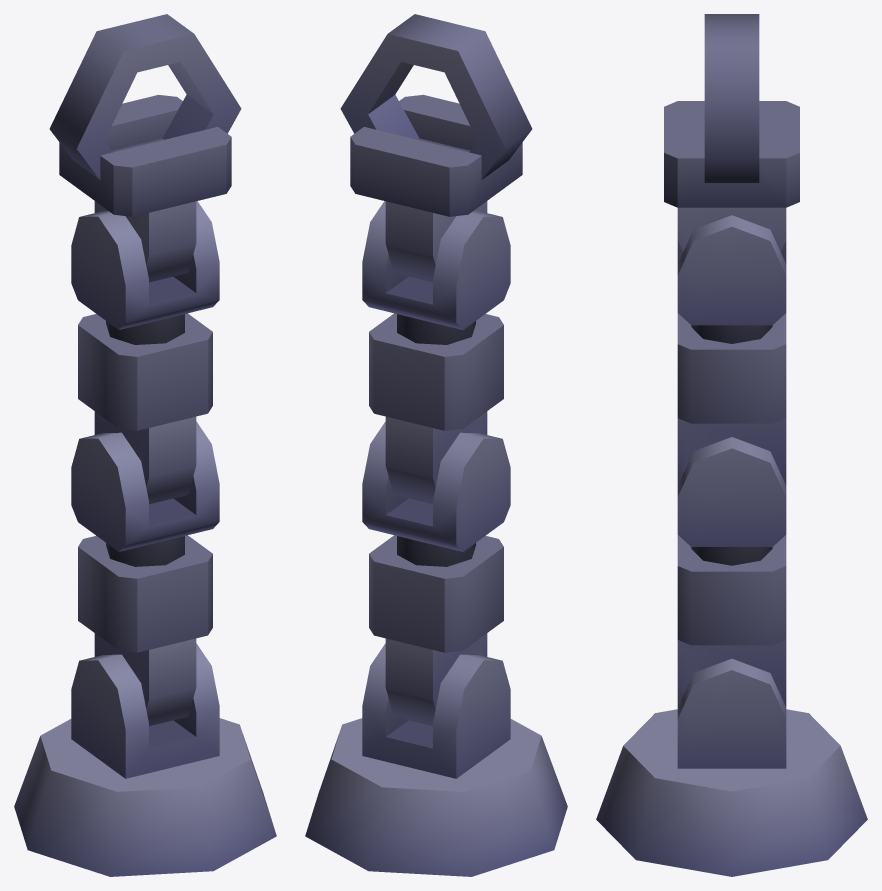
Rendered from robot-arm-a.glb.
3 renders of one model, left to right at view 1: azimuth 30°, elevation 25°; view 2: azimuth 150°, elevation 25°; view 3: azimuth 270°, elevation 25°, orthographic.
Visible parts, largest first — view 1: robot-arm-a, element-b, element-d, element-f, element-a, element-c, element-e, claw-b, claw-a; view 2: robot-arm-a, element-b, element-d, element-f, element-a, element-c, element-e, claw-b, claw-a; view 3: robot-arm-a, element-d, element-b, element-f, element-a, element-e, element-c, claw-a, claw-b.
Boxes of the visible parts, bbox=[...] form: robot-arm-a: bbox=[14, 718, 276, 876]; element-b: bbox=[78, 535, 212, 726]; element-d: bbox=[78, 313, 212, 504]; element-f: bbox=[59, 94, 231, 282]; element-a: bbox=[71, 643, 219, 778]; element-c: bbox=[71, 421, 219, 551]; element-e: bbox=[71, 201, 219, 329]; claw-b: bbox=[49, 22, 158, 179]; claw-a: bbox=[132, 14, 241, 139]; robot-arm-a: bbox=[305, 718, 567, 876]; element-b: bbox=[369, 535, 503, 726]; element-d: bbox=[369, 313, 503, 504]; element-f: bbox=[350, 94, 522, 282]; element-a: bbox=[362, 643, 510, 778]; element-c: bbox=[362, 421, 510, 551]; element-e: bbox=[362, 201, 510, 329]; claw-b: bbox=[423, 22, 532, 179]; claw-a: bbox=[340, 14, 449, 139]; robot-arm-a: bbox=[596, 709, 867, 876]; element-d: bbox=[677, 313, 786, 473]; element-b: bbox=[677, 535, 786, 694]; element-f: bbox=[664, 101, 799, 251]; element-a: bbox=[677, 658, 786, 768]; element-e: bbox=[677, 215, 786, 325]; element-c: bbox=[677, 437, 786, 546]; claw-a: bbox=[704, 31, 759, 182]; claw-b: bbox=[704, 14, 759, 31].
Size of the model in its own units: 1 by 3.2 by 1.
